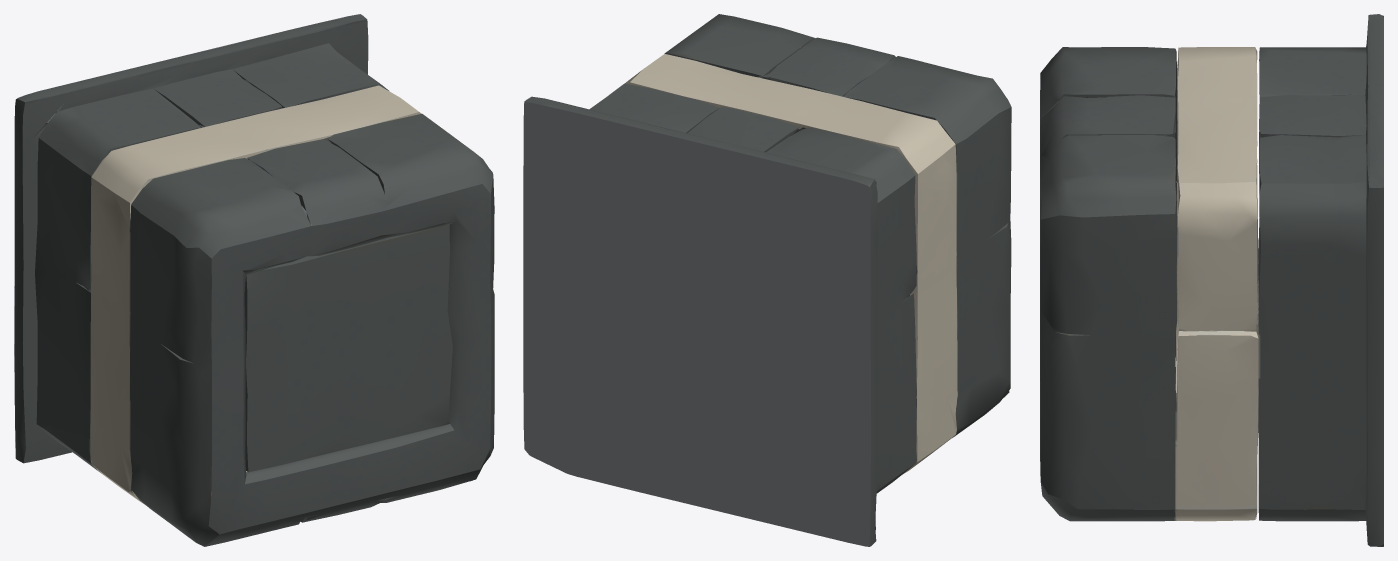
File: goods_container_mk1.glb
3 views of the same model, side by side, from view 1: azimuth 30°, elevation 25°; view 2: azimuth 150°, elevation 25°; view 3: azimuth 270°, elevation 25° (orthographic). The views are drawn at different scales.
Visible parts, largest first — view 1: part; view 2: part; view 3: part.
Boxes of the visible parts, x1,y1,x2,y2 form: part: (14,14,494,546); part: (523,14,1011,546); part: (1040,14,1383,546).
Size of the model in its own units: 1.2 by 1.2 by 1.
Materials: 2 (1 with a texture image).
